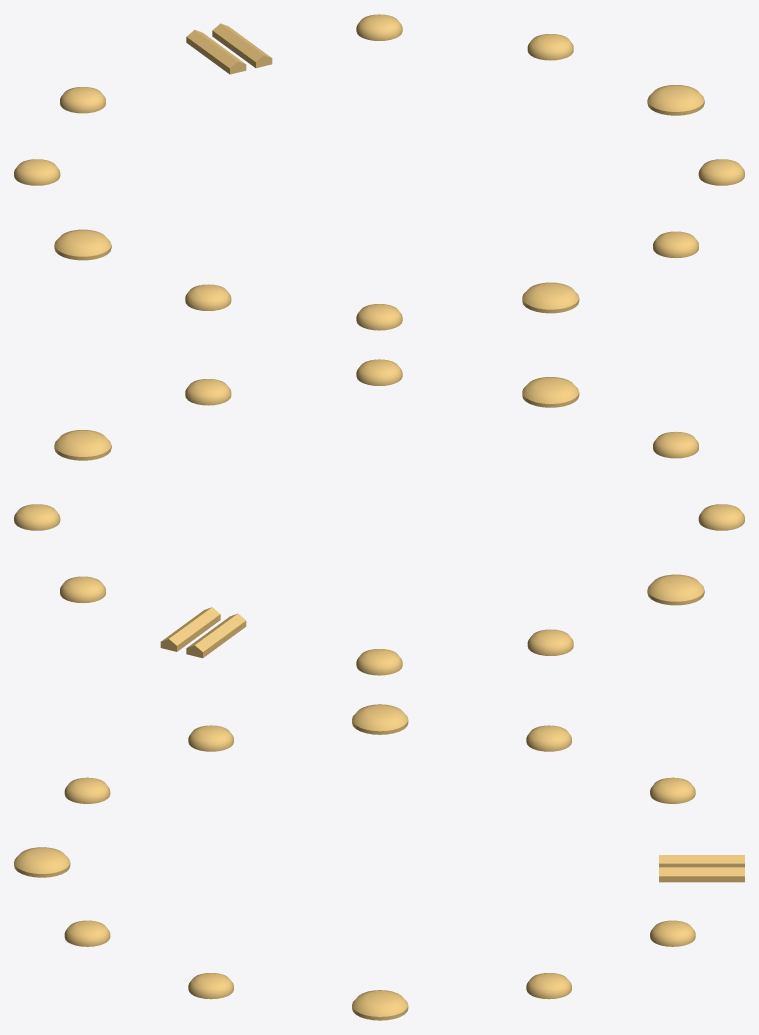
The model's file is dial-open.glb.
The picture shows the model from 3 angles, top to bottom: view 1: azimuth 30°, elevation 25°; view 2: azimuth 150°, elevation 25°; view 3: azimuth 270°, elevation 25°; orthographic projection.
Parts seen in each view (by area): view 1: h0, h9, h6, h3, h1, h4, h10, h2, h7, h8, h11, h5; view 2: h0, h9, h3, h6, h5, h2, h8, h4, h11, h7, h10, h1; view 3: h0, h3, h6, h9, h1, h8, h10, h5, h11, h2, h4, h7.
Part boxes in pixels (x1,y1,x2,y2): h0: (186, 23, 272, 74); h9: (54, 229, 111, 260); h6: (522, 282, 579, 313); h3: (647, 85, 704, 115); h1: (356, 14, 402, 40); h4: (698, 159, 744, 185); h10: (14, 159, 60, 185); h2: (527, 34, 573, 60); h7: (356, 304, 402, 330); h8: (185, 284, 231, 310); h11: (60, 87, 105, 113); h5: (653, 231, 698, 257); h0: (160, 607, 246, 658); h9: (647, 574, 704, 605); h3: (54, 430, 111, 460); h6: (522, 377, 579, 407); h5: (356, 359, 402, 385); h2: (14, 504, 60, 530); h8: (698, 504, 744, 530); h4: (185, 379, 231, 405); h11: (356, 649, 402, 675); h7: (653, 432, 698, 458); h10: (527, 629, 573, 655); h1: (60, 576, 105, 602); h0: (659, 855, 744, 882); h3: (352, 990, 408, 1020); h6: (14, 847, 70, 877); h9: (352, 704, 408, 734); h1: (650, 920, 695, 946); h8: (188, 725, 233, 751); h10: (526, 725, 571, 751); h5: (64, 920, 110, 946); h11: (650, 777, 695, 803); h2: (526, 973, 571, 999); h4: (188, 973, 233, 999); h7: (64, 777, 110, 803).
Size of the model in its own units: 0.0273 by 0.0005 by 0.0273.
